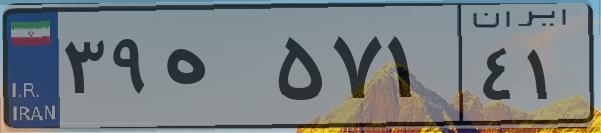1: (385, 28, 445, 110), (525, 38, 570, 115)
3: (57, 26, 110, 100)
4: (475, 38, 525, 113)
5: (270, 28, 330, 110)
7: (330, 28, 385, 110)
9: (110, 28, 158, 98)
ه: (158, 20, 270, 120)
